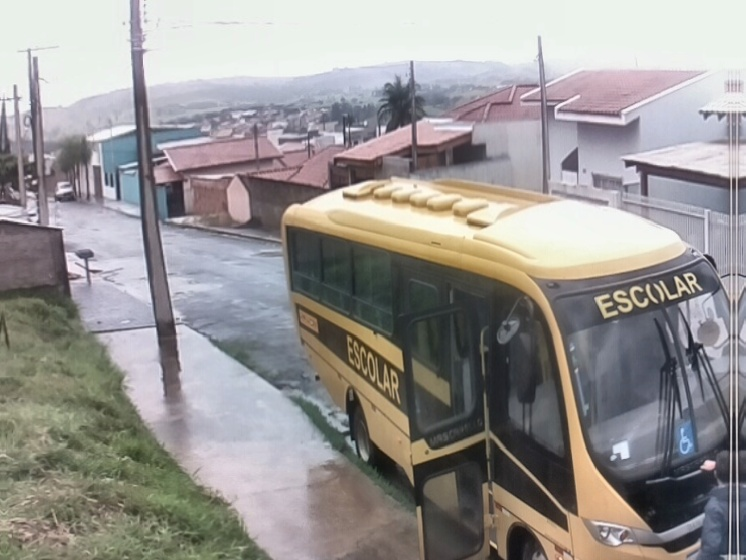person: (692, 451, 746, 560)
